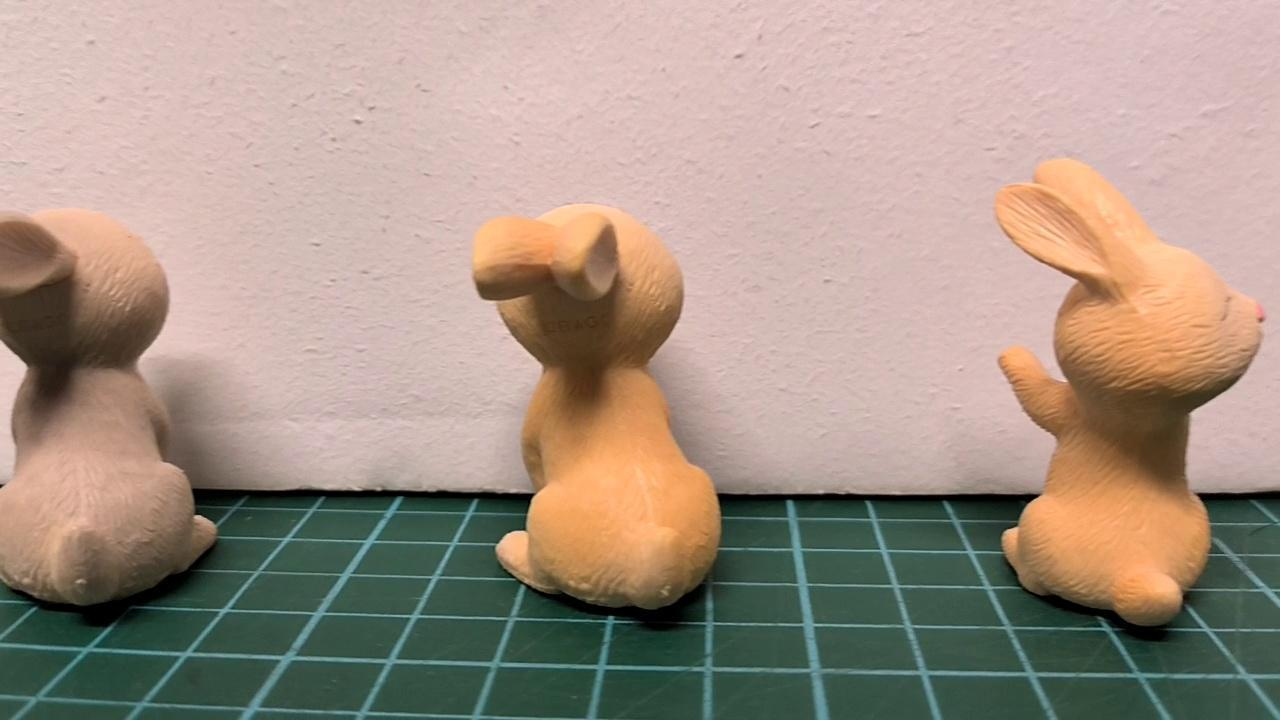pet: (0, 203, 219, 608)
